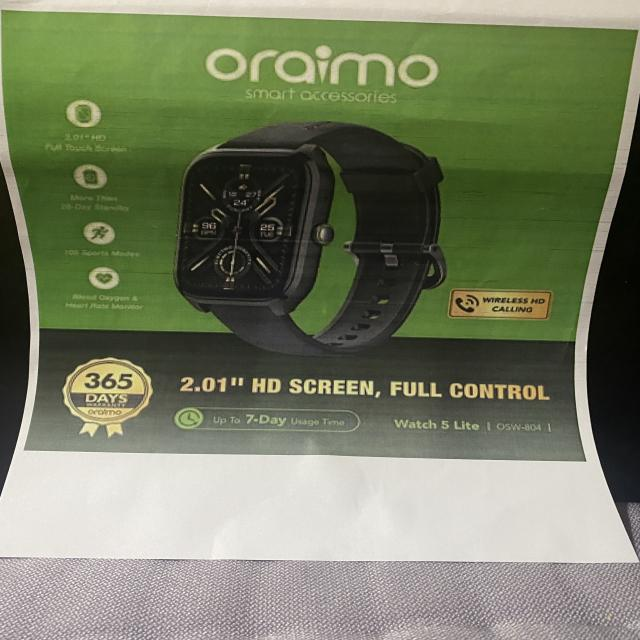Watch 5 Lite OSW-804: (389, 412, 556, 437)
